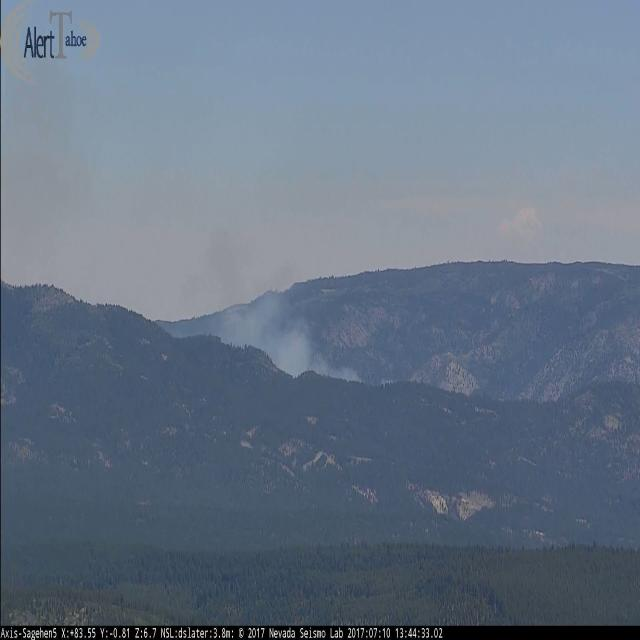smoke: (222, 299, 362, 382)
